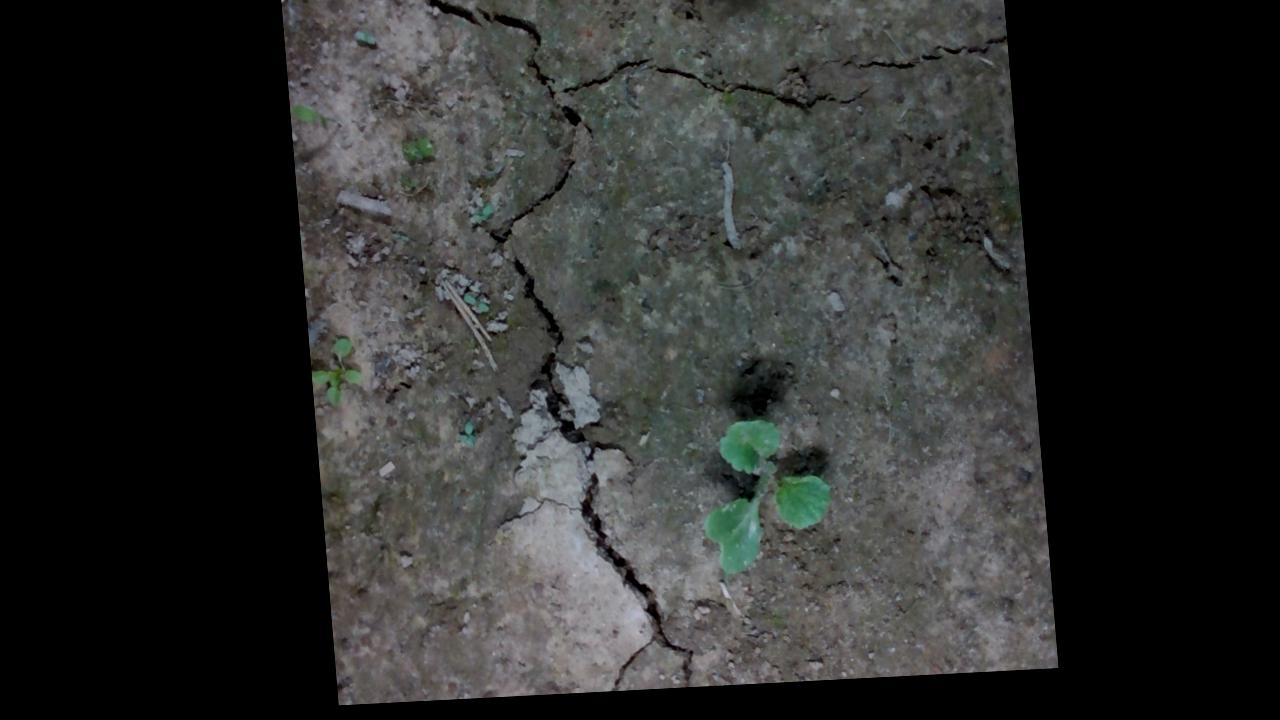weed: (443, 424, 472, 459), (460, 196, 484, 235), (350, 26, 375, 53)
